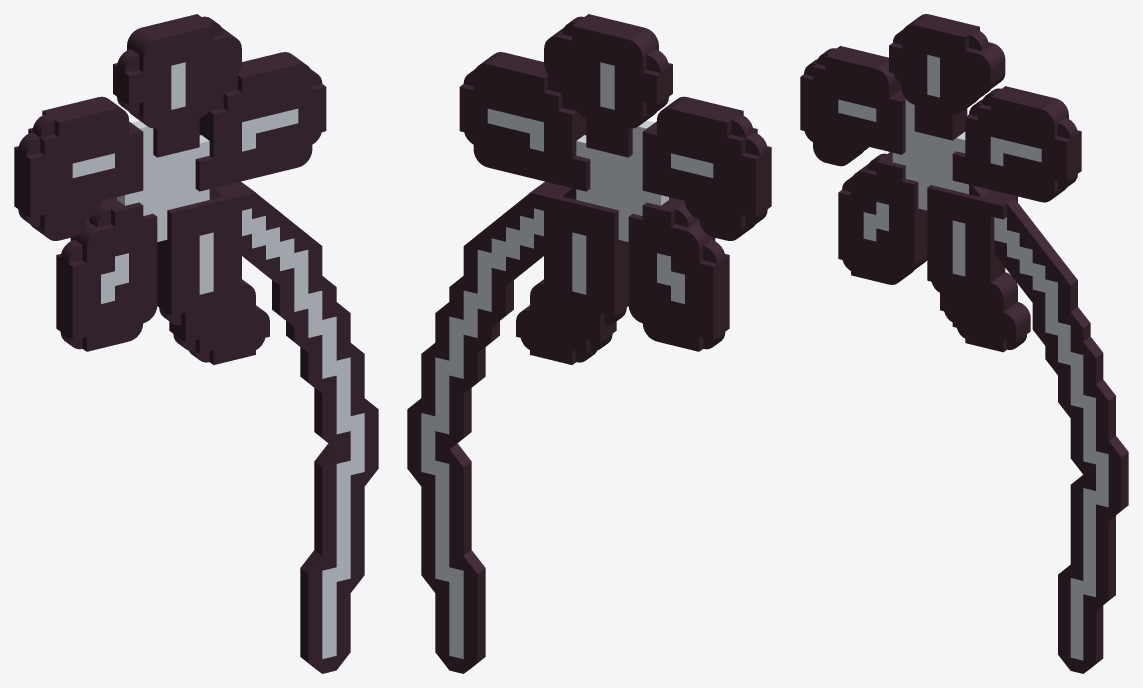
File: Black Flower.fbx
3 renders of one model, left to right at view 1: azimuth 30°, elevation 25°; view 2: azimuth 150°, elevation 25°; view 3: azimuth 330°, elevation 25°, orthographic. The views are drawn at different scales.
Parts seen in each view (by area): view 1: generated; view 2: generated; view 3: generated.
Part boxes in pixels (<box>): generated: <box>14,14,378,673</box>; generated: <box>407,14,771,673</box>; generated: <box>800,14,1128,673</box>.
Bounding box in the file's own units: 1000 × 1840 × 80.
